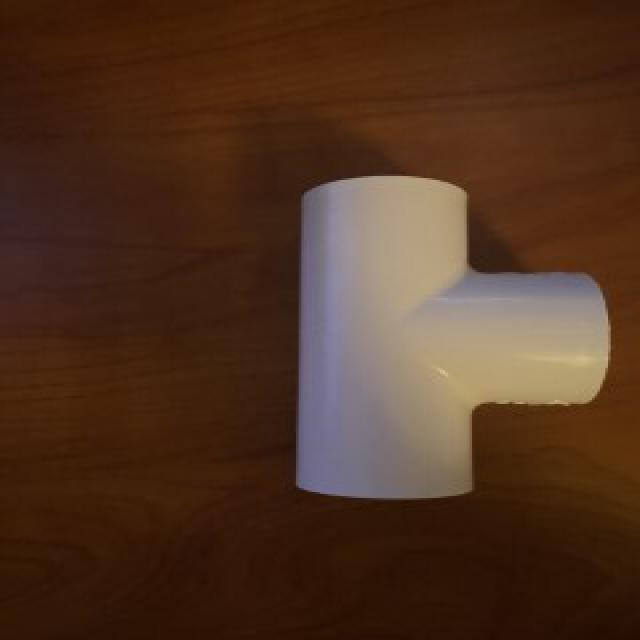T Joint: (294, 176, 609, 503)
